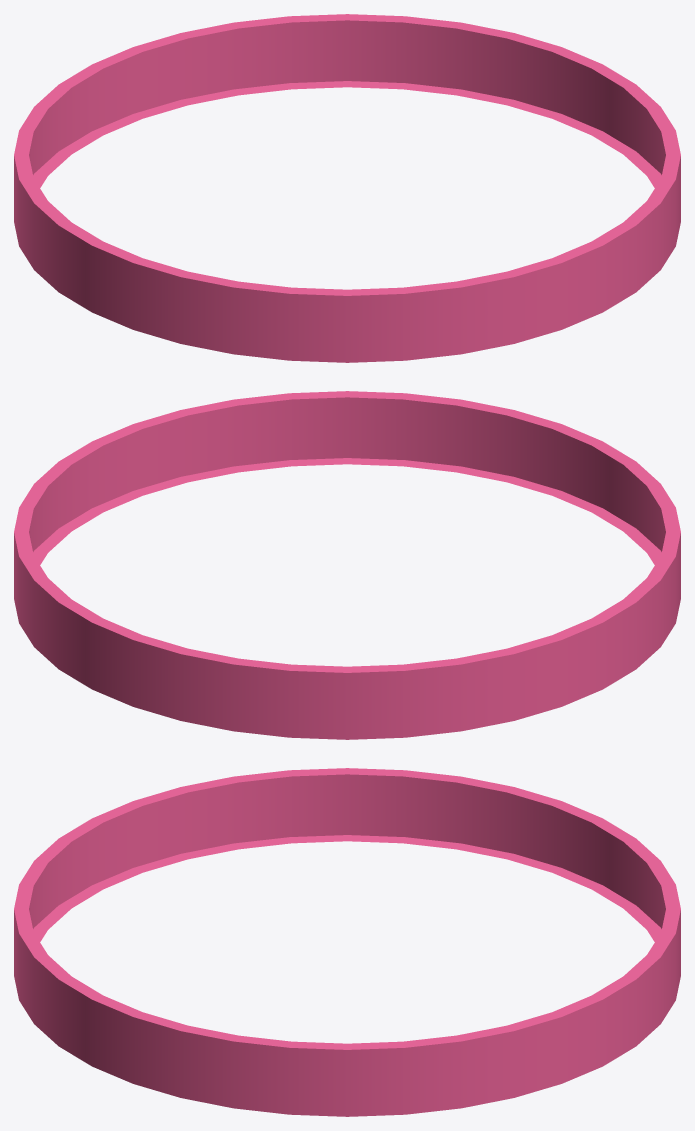
Rendered from Cake_Lrg_itemsSide_Ribbon-A.FBX.
3 views of the same model, one above another, from view 1: azimuth 30°, elevation 25°; view 2: azimuth 150°, elevation 25°; view 3: azimuth 270°, elevation 25° (orthographic).
Visible parts, largest first — view 1: Cake_Lrg_itemsSide_Ribbon-A; view 2: Cake_Lrg_itemsSide_Ribbon-A; view 3: Cake_Lrg_itemsSide_Ribbon-A.
Part boxes in pixels (x1=…): Cake_Lrg_itemsSide_Ribbon-A: x1=14, y1=14, x2=680, y2=362; Cake_Lrg_itemsSide_Ribbon-A: x1=14, y1=391, x2=680, y2=739; Cake_Lrg_itemsSide_Ribbon-A: x1=14, y1=768, x2=680, y2=1116.
Size of the model in its own units: 9916 by 1098 by 9916.
